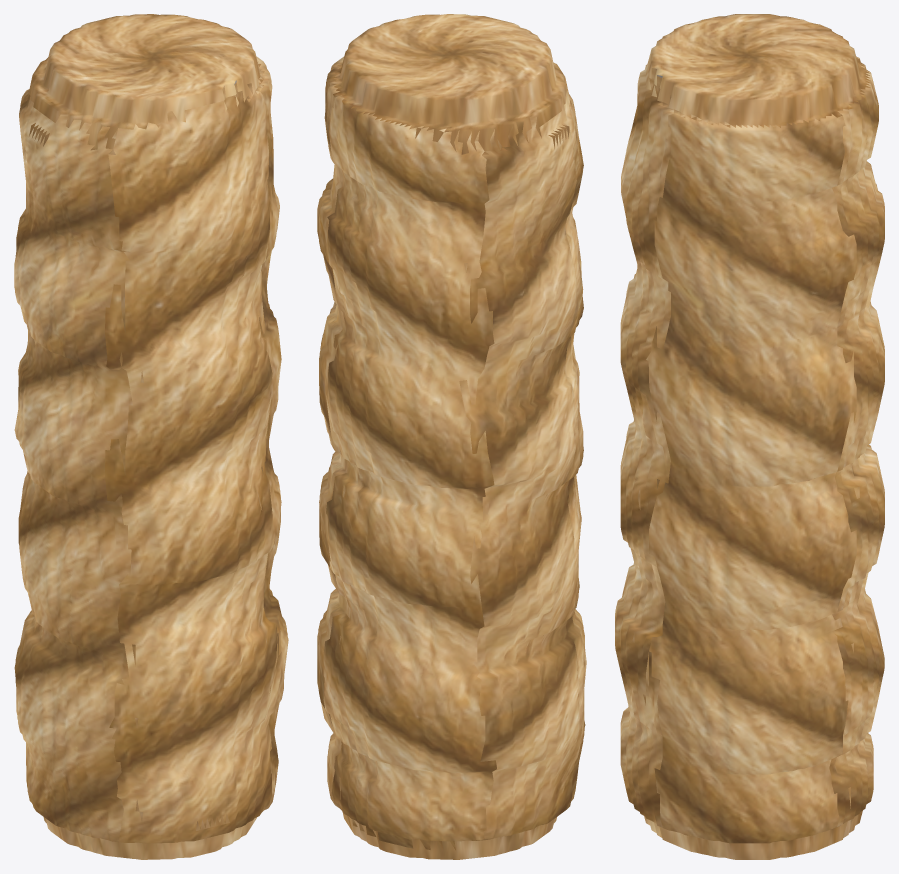
File: rope.glb
3 renders of one model, left to right at view 1: azimuth 30°, elevation 25°; view 2: azimuth 150°, elevation 25°; view 3: azimuth 270°, elevation 25°, orthographic.
Bounding box in the file's own units: 0.3237 × 1 × 0.3209.
Materials: 1 (1 with a texture image).
